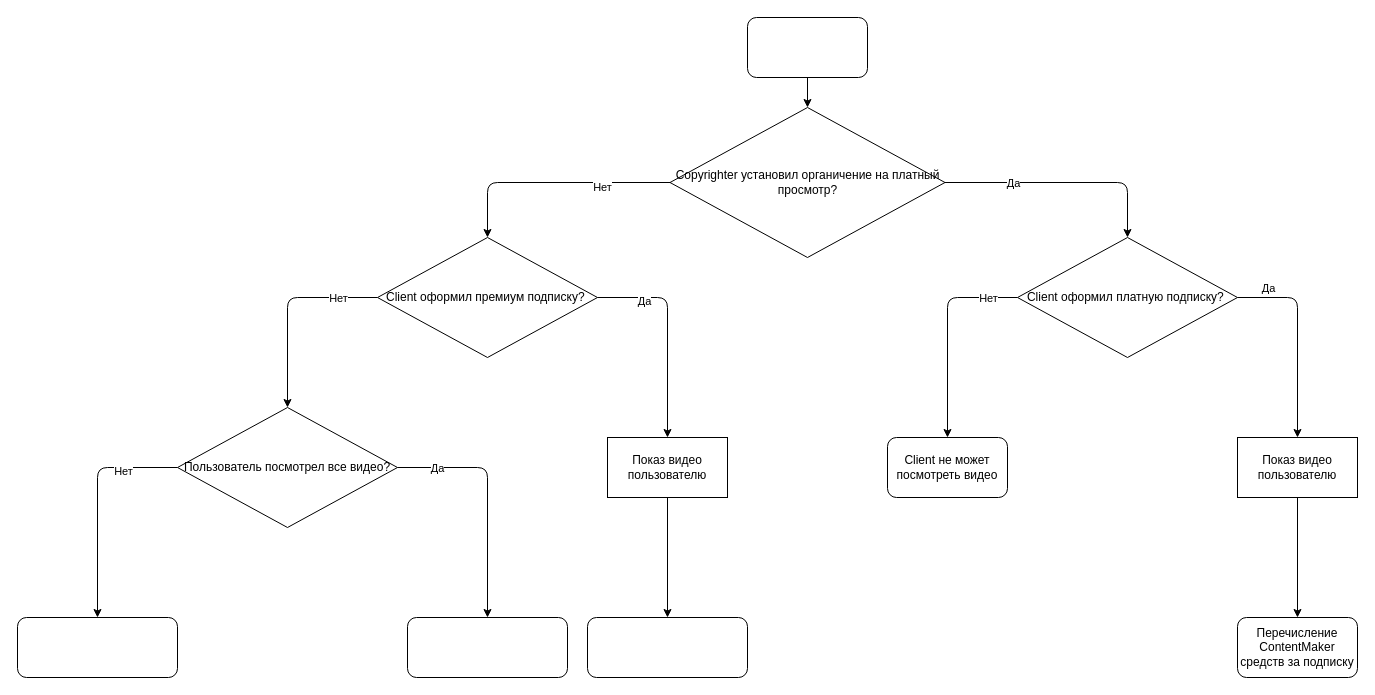
This 1375x695 diagram has some shape labels left out. The shapes that lost their labels are listed below. From the top down, each one's centre as x and y in pixels, then its label:
At pixel 807 47: "Запрос на показ видео".
At pixel 97 647: "Перечисление ContentMaker средств за рекламу в начале".
At pixel 487 647: "Перечисление ContentMaker средств за две рекламы".
At pixel 667 647: "Перечисление ContentMaker средств за премиальную подписку".
